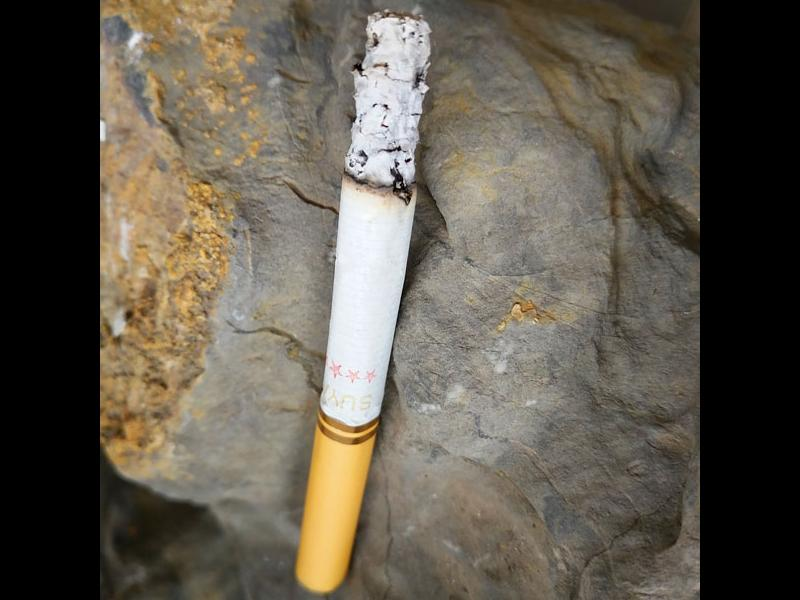Cigarette: (294, 10, 430, 592)
